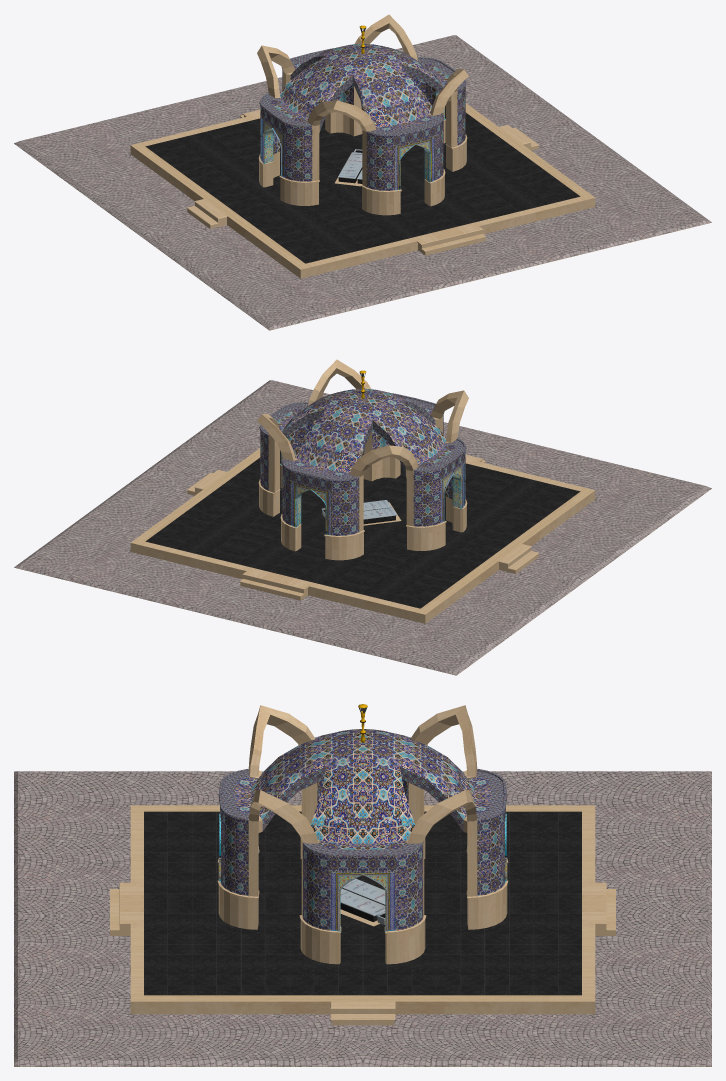
The model's file is Shrine.fbx.
3 renders of one model, top to bottom at view 1: azimuth 30°, elevation 25°; view 2: azimuth 150°, elevation 25°; view 3: azimuth 270°, elevation 25°, orthographic. The views are drawn at different scales.
Parts seen in each view (by area): view 1: StoneGrave; view 2: StoneGrave; view 3: StoneGrave.
Part boxes in pixels (x1,y1,x2,y2): StoneGrave: (14, 14, 711, 330); StoneGrave: (14, 359, 711, 675); StoneGrave: (14, 704, 711, 1066).
Bounding box in the file's own units: 1800 × 1800 × 610.
